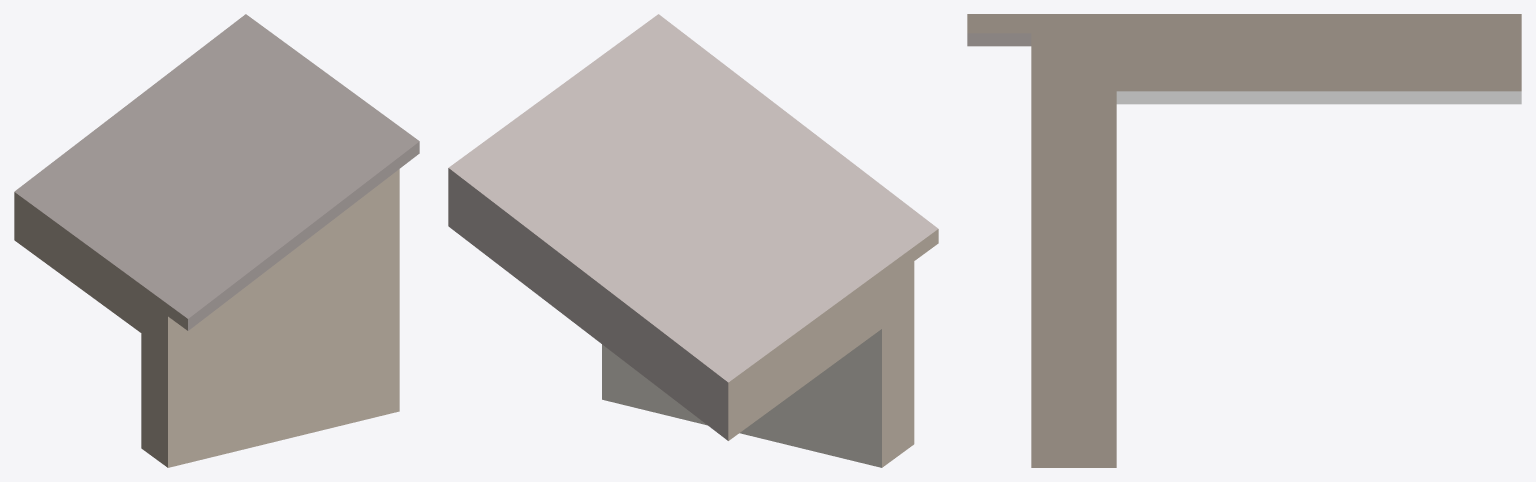
Rendered from Structure_Roof_Edge_Full.glb.
The picture shows the model from 3 angles, left to right: view 1: azimuth 30°, elevation 25°; view 2: azimuth 150°, elevation 25°; view 3: azimuth 270°, elevation 25°; orthographic projection. The views are drawn at different scales.
Parts seen in each view (by area): view 1: Structure_Roof_Edge_Full; view 2: Structure_Roof_Edge_Full; view 3: Structure_Roof_Edge_Full.
Boxes of the visible parts, left/top/right/bottom form: Structure_Roof_Edge_Full: left=14, top=14, right=419, bottom=467; Structure_Roof_Edge_Full: left=448, top=14, right=938, bottom=467; Structure_Roof_Edge_Full: left=967, top=14, right=1521, bottom=467.
Size of the model in its own units: 0.45 by 0.5287 by 0.585.
